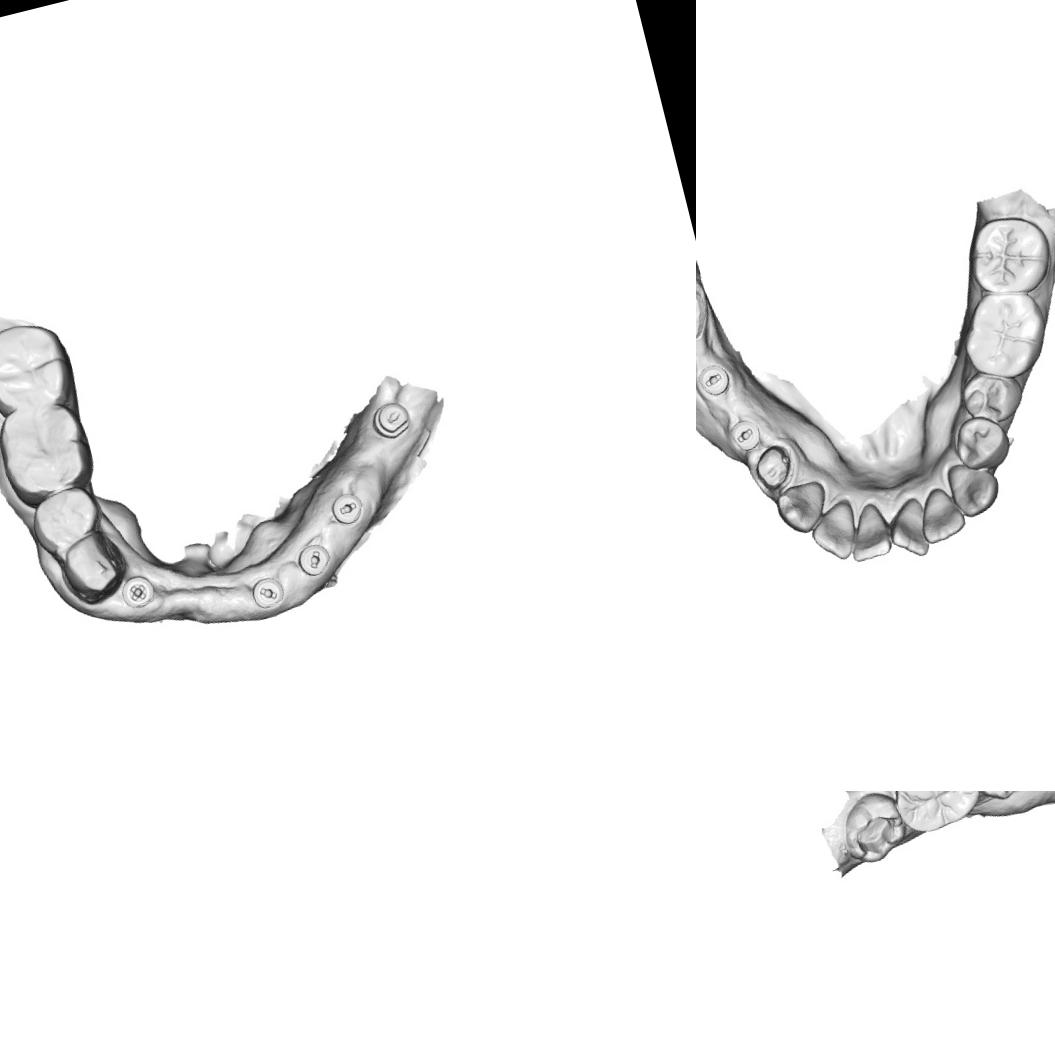canine: (941, 452, 1005, 522), (769, 475, 836, 540)
crown: (746, 438, 798, 494), (696, 271, 716, 355)
implant_minus: (367, 398, 414, 442), (723, 412, 766, 458), (696, 358, 735, 403), (293, 539, 334, 580), (327, 488, 367, 528), (248, 572, 288, 612)
implant_plus: (116, 570, 159, 612)
incisor: (910, 478, 971, 547), (804, 499, 866, 566), (840, 501, 902, 564), (882, 492, 936, 564)
molar: (0, 394, 102, 514), (950, 280, 1055, 389), (956, 204, 1055, 305), (0, 312, 80, 422), (833, 791, 912, 869), (882, 791, 985, 839)
premolar: (24, 480, 110, 564), (52, 524, 133, 610), (952, 362, 1030, 432), (946, 409, 1016, 477), (965, 791, 1029, 805)
